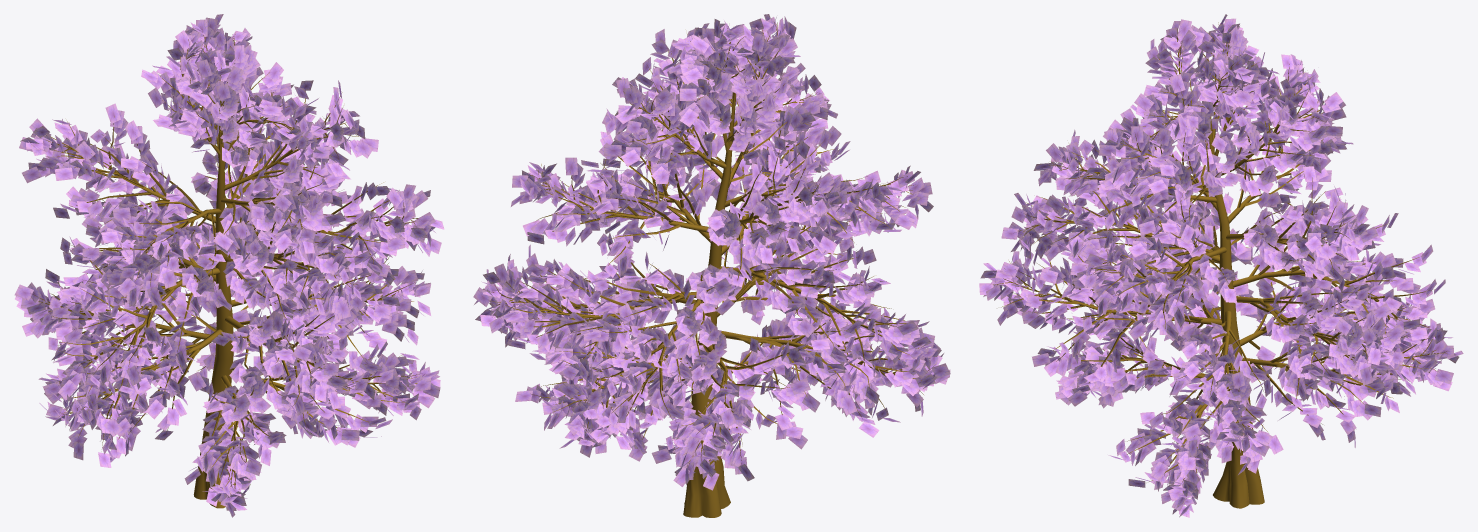
3 renders of one model, left to right at view 1: azimuth 30°, elevation 25°; view 2: azimuth 150°, elevation 25°; view 3: azimuth 270°, elevation 25°, orthographic. The views are drawn at different scales.
Visible parts, largest first — view 1: 3DSMeshMatrix (×2); view 2: 3DSMeshMatrix (×2); view 3: 3DSMeshMatrix (×2).
Part boxes in pixels (<box>): 3DSMeshMatrix (×2): <box>14,14,444,517</box>; 3DSMeshMatrix (×2): <box>473,14,950,517</box>; 3DSMeshMatrix (×2): <box>979,14,1463,517</box>.
Bounding box in the file's own units: 211 × 232 × 218.
